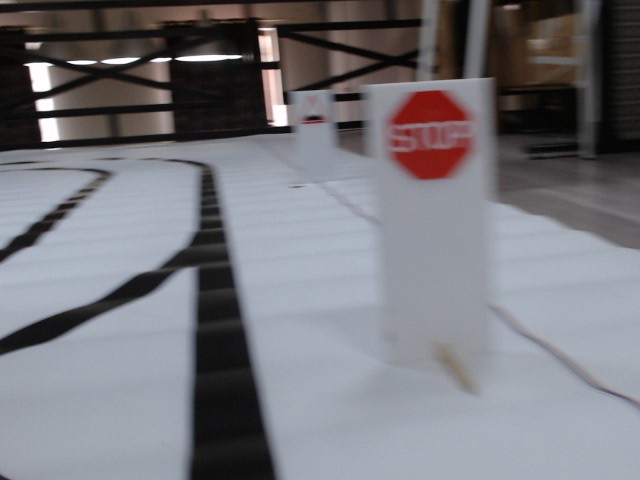Stop: (389, 92, 476, 178)
